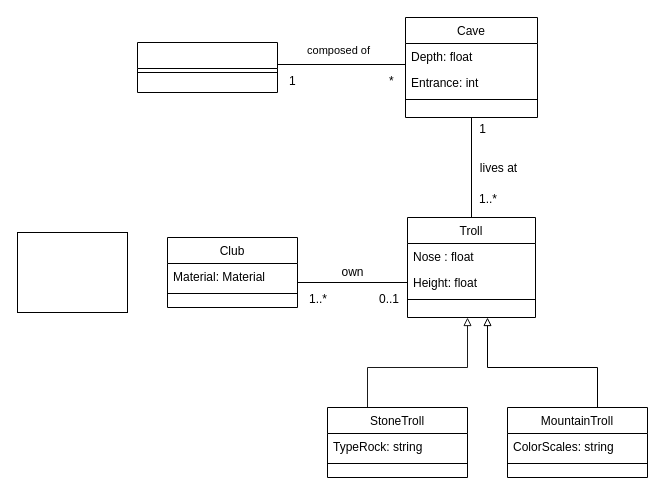
The diagram is 665 pixels wide and 495 high, and some of its shapes have lost their labels. Each missing label, with the centre of its shape:
<<enumeration>> Material Oak Sprunce: (72,272)
Forest: (207,67)
